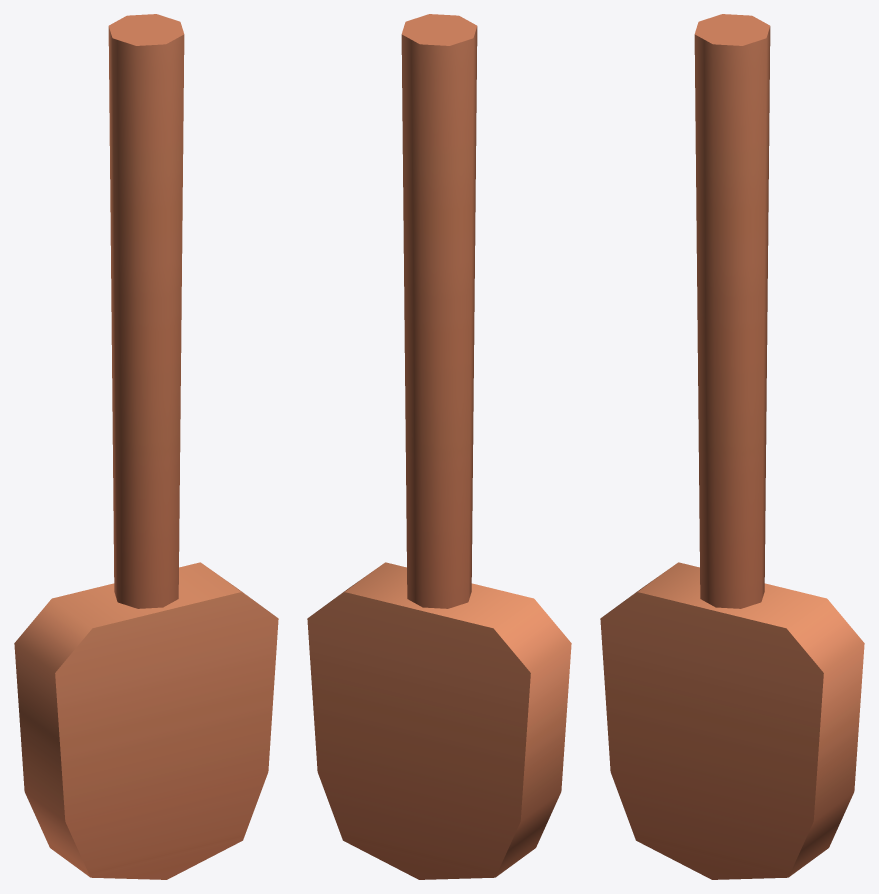
The model's file is kenney-pirate-tool-paddle.glb.
3 renders of one model, left to right at view 1: azimuth 30°, elevation 25°; view 2: azimuth 150°, elevation 25°; view 3: azimuth 330°, elevation 25°, orthographic.
Visible parts, largest first — view 1: tool-paddle; view 2: tool-paddle; view 3: tool-paddle.
Part boxes in pixels (x1=…): tool-paddle: x1=14, y1=14, x2=278, y2=879; tool-paddle: x1=307, y1=14, x2=571, y2=879; tool-paddle: x1=600, y1=14, x2=864, y2=879.
Size of the model in its own units: 0.6579 by 2.35 by 0.2076.
1 material, 1 textured.
